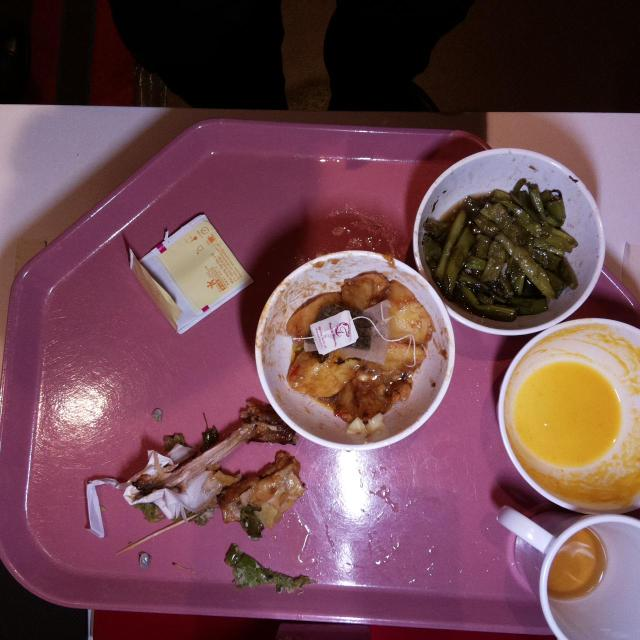Bone: (136, 402, 266, 493)
Potato: (286, 278, 436, 422)
Vegetable: (440, 187, 574, 317)
